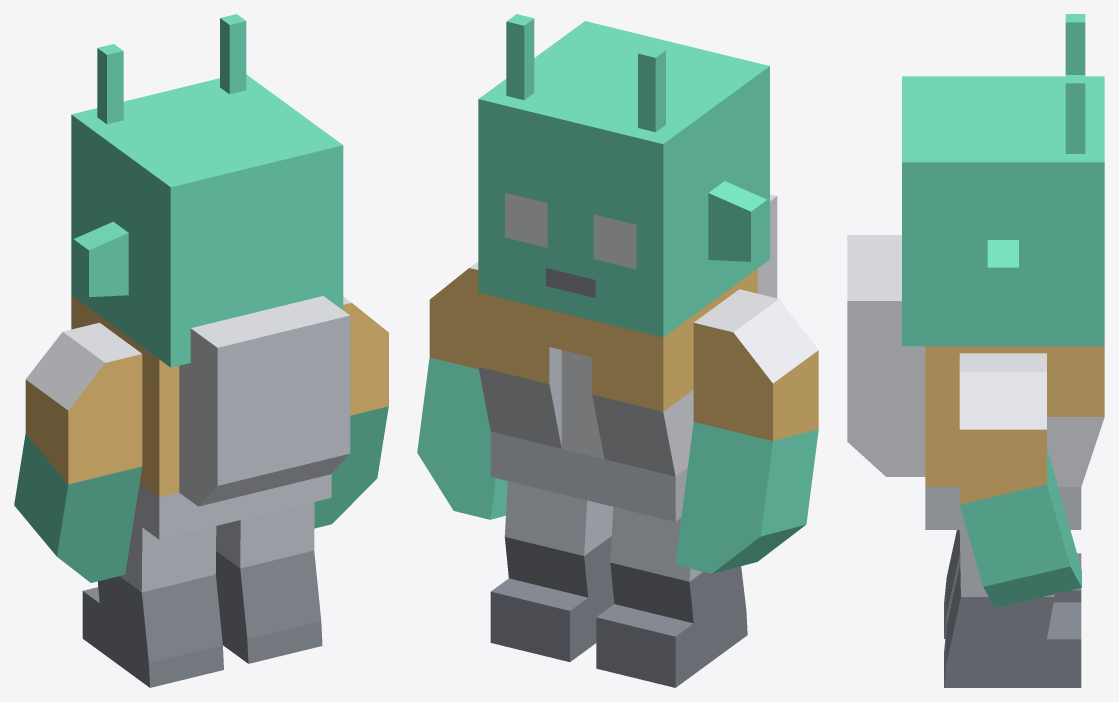
The model's file is alien.glb.
3 views of the same model, side by side, from view 1: azimuth 30°, elevation 25°; view 2: azimuth 150°, elevation 25°; view 3: azimuth 270°, elevation 25° (orthographic). The views are drawn at different scales.
Visible parts, largest first — view 1: alien; view 2: alien; view 3: alien.
Part boxes in pixels (box(x1,y1,x2,y2)): alien: box(14, 14, 388, 687); alien: box(417, 14, 818, 687); alien: box(847, 14, 1104, 687).
Bounding box in the file's own units: 0.6784 × 1.18 × 0.4633.
